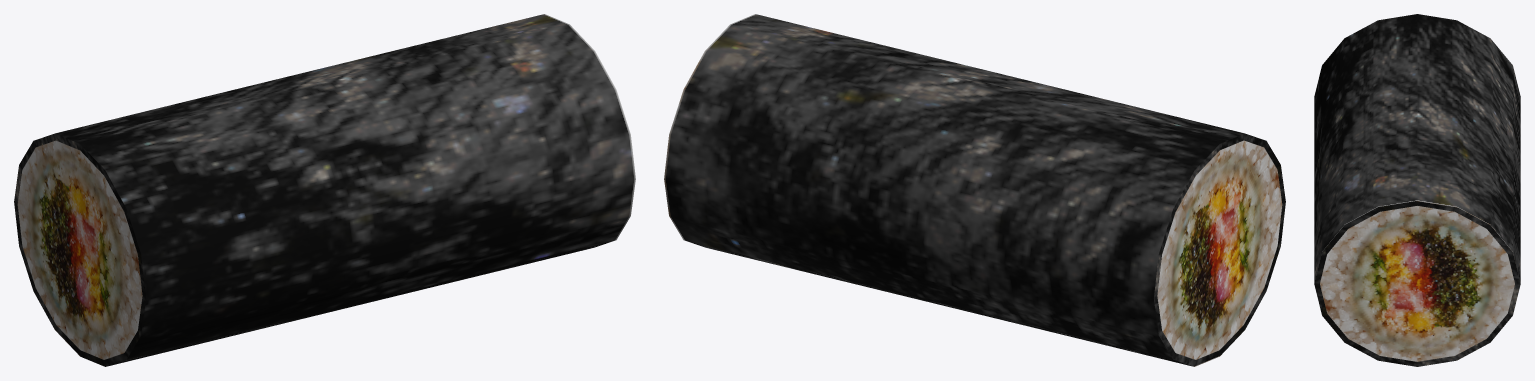
Rendered from VFX_Sushi.fbx.
3 views of the same model, side by side, from view 1: azimuth 30°, elevation 25°; view 2: azimuth 150°, elevation 25°; view 3: azimuth 270°, elevation 25° (orthographic). The views are drawn at different scales.
Visible parts, largest first — view 1: Sushi Roll; view 2: Sushi Roll; view 3: Sushi Roll.
Boxes of the visible parts, <box> form: Sushi Roll: <box>14,14,635,366</box>; Sushi Roll: <box>664,14,1285,366</box>; Sushi Roll: <box>1314,14,1520,366</box>.
Bounding box in the file's own units: 0.1098 × 0.0456 × 0.0513.
